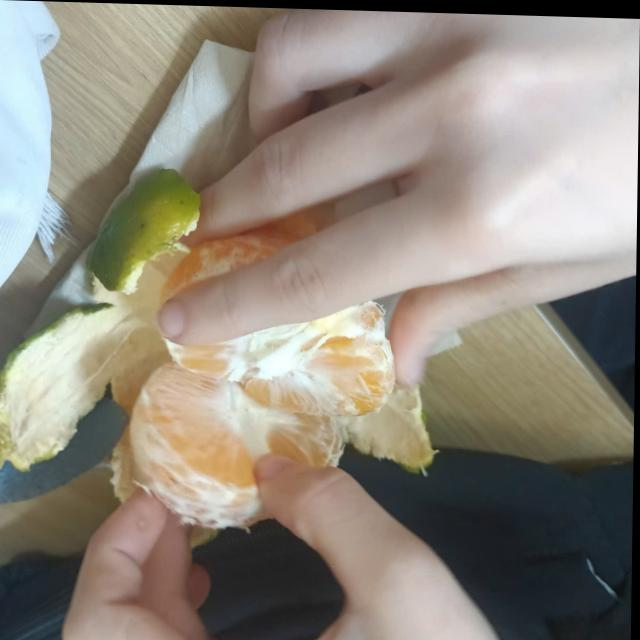Cam: (0, 151, 446, 547)
